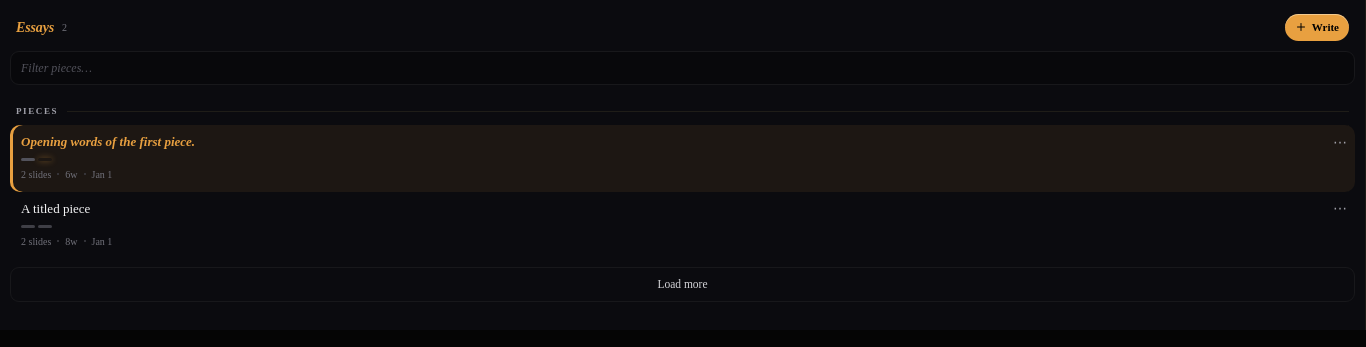
EssaySpine — the actions the index used to own › offers copy, and hides delete from non-admins
Click the 1st text with class "kebab" at (1340, 142), box [1333, 134, 1347, 150]
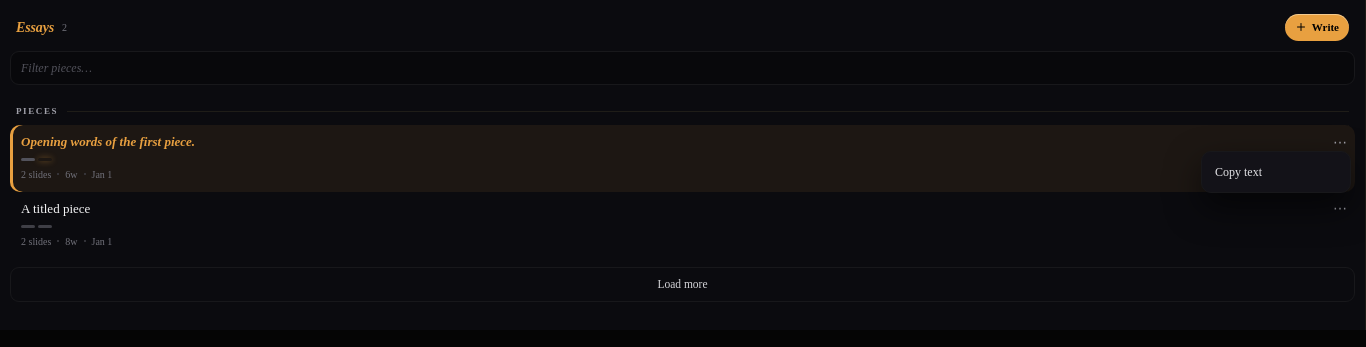
Expected: the button "Copy text" is shown, [1206, 156, 1346, 188]
